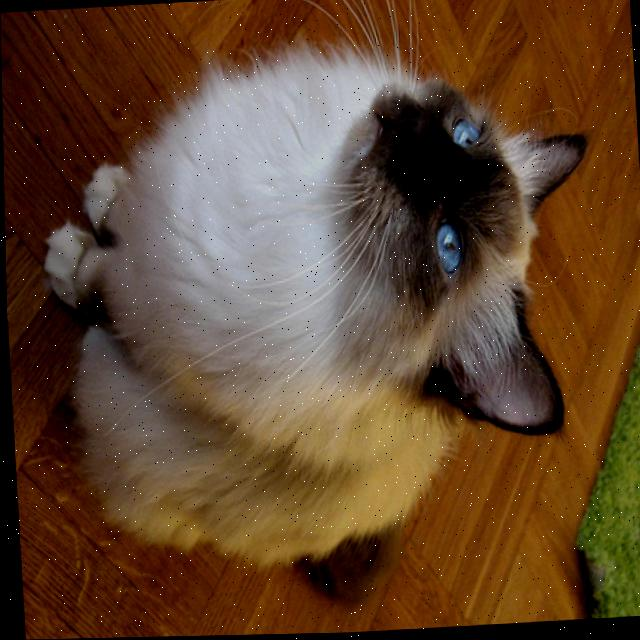Birman: (27, 25, 618, 628)
